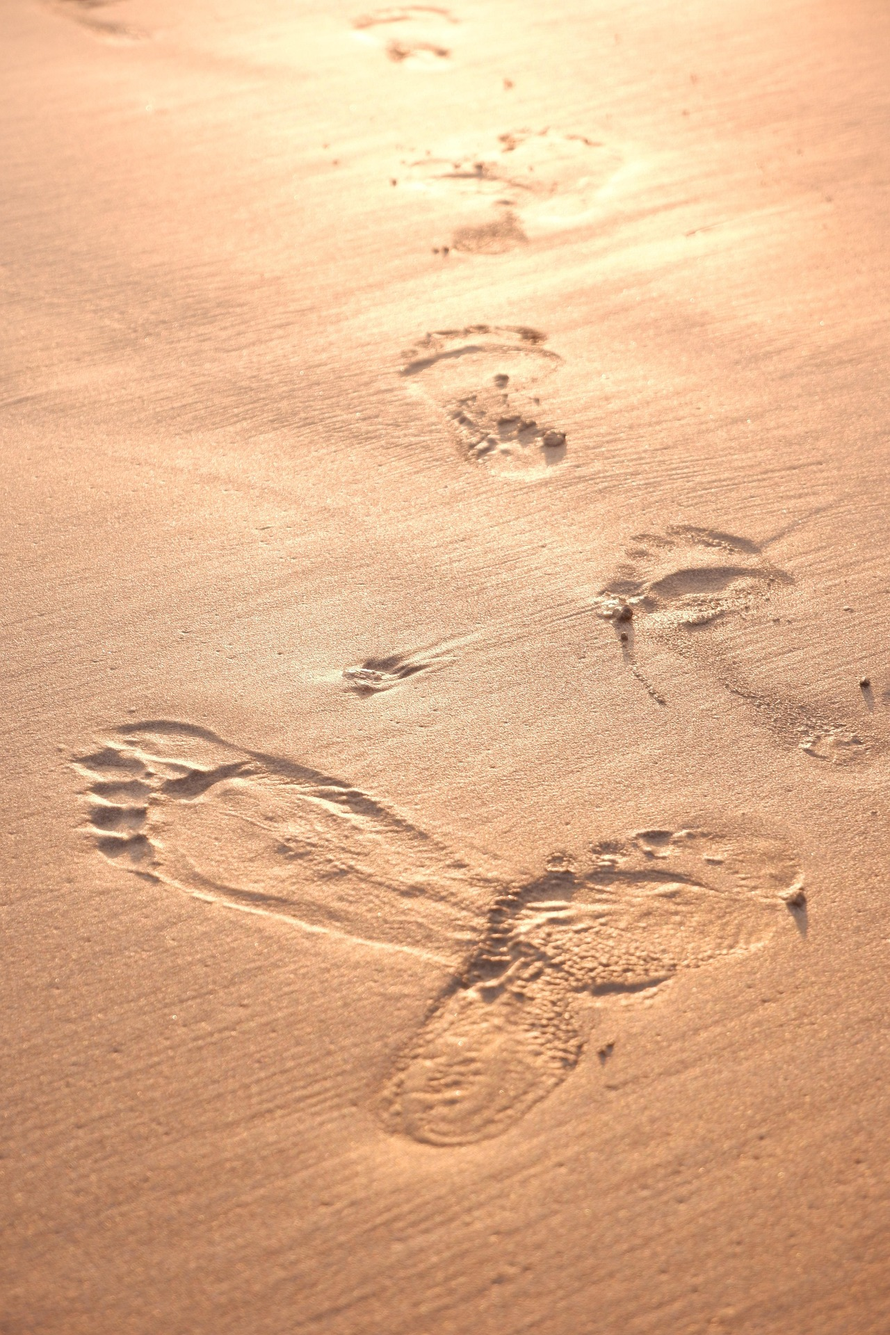human_foot_print: (74, 720, 804, 1144), (382, 827, 804, 1145), (74, 720, 492, 966), (594, 526, 880, 764), (400, 128, 621, 252), (400, 325, 565, 470), (342, 636, 474, 697), (352, 6, 459, 69), (46, 0, 147, 43)
